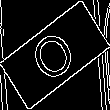O_SE: (26, 22, 84, 88)
